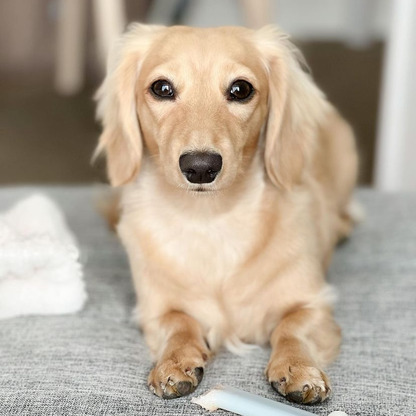dachshund: (74, 26, 381, 399)
